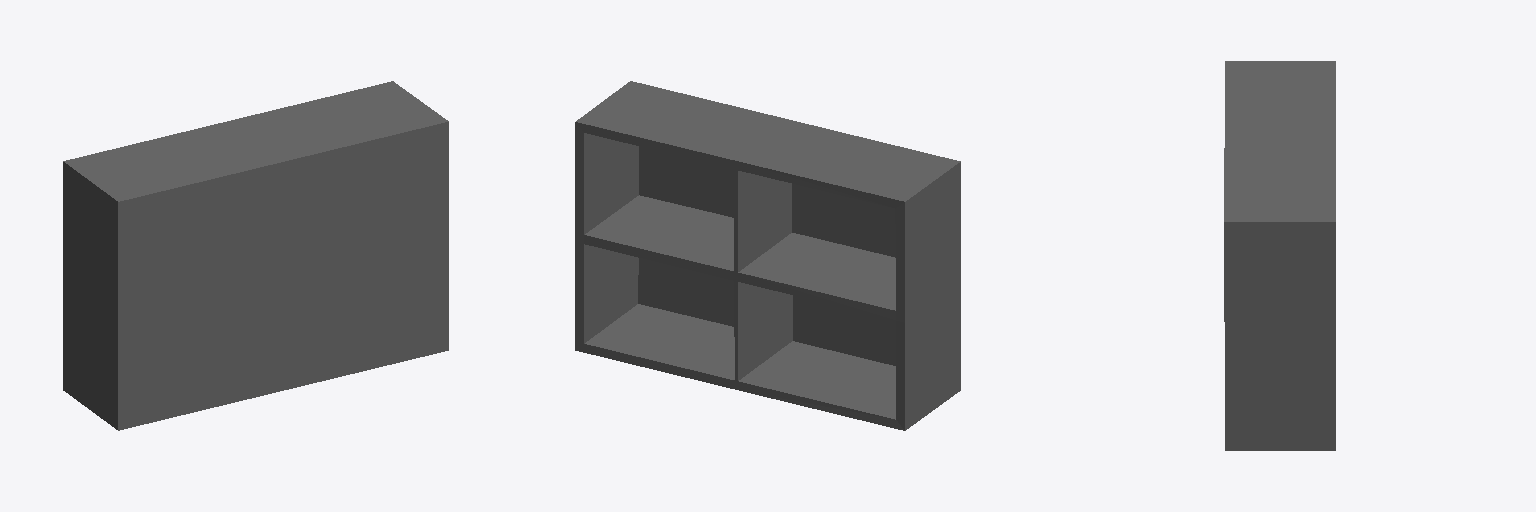
File: MuebleMediano.obj
3 renders of one model, left to right at view 1: azimuth 30°, elevation 25°; view 2: azimuth 150°, elevation 25°; view 3: azimuth 270°, elevation 25°, orthographic.
Parts seen in each view (by area): view 1: box_Box; view 2: box_Box; view 3: box_Box.
Boxes of the visible parts, <box> form: box_Box: <box>63,81,448,430</box>; box_Box: <box>575,81,960,430</box>; box_Box: <box>1224,61,1335,450</box>.
Size of the model in its own units: 2.13 by 1.41 by 0.6199.